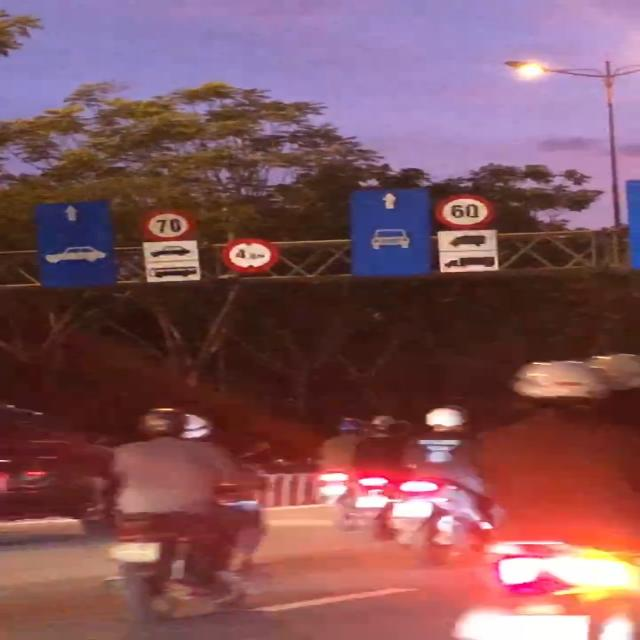Bien bao han che chieu cao: (221, 235, 285, 274)
Bien bao toc do toi da cho phep: (136, 208, 203, 242), (430, 192, 491, 228)
